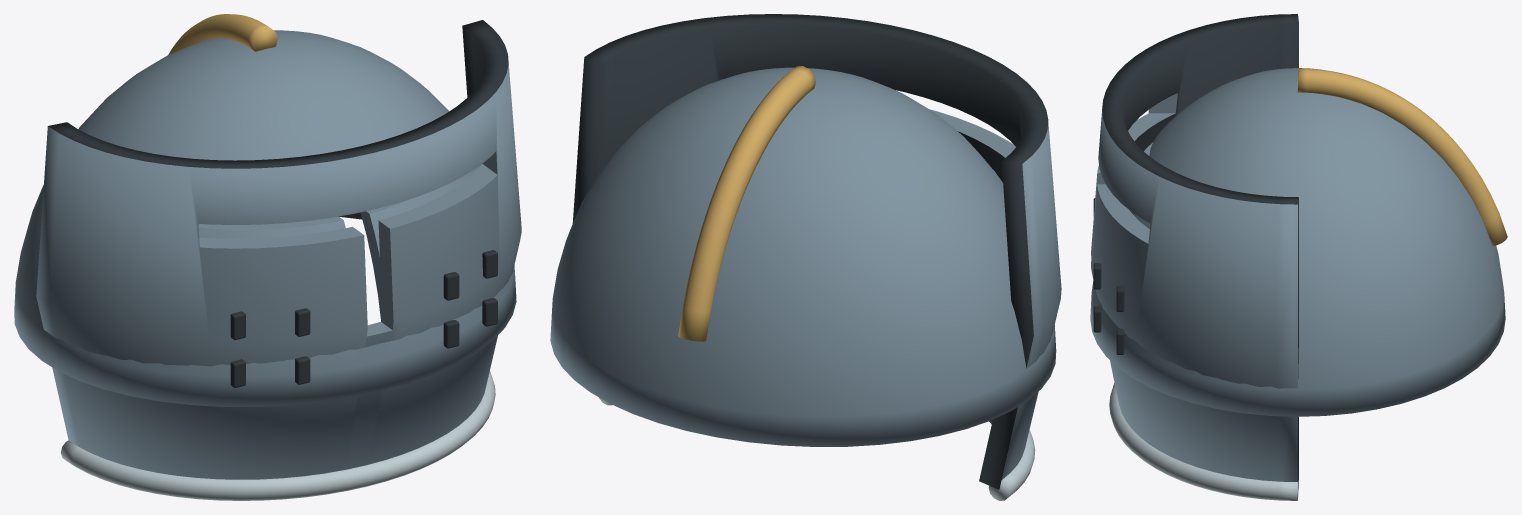
File: great-helm.glb
3 renders of one model, left to right at view 1: azimuth 30°, elevation 25°; view 2: azimuth 150°, elevation 25°; view 3: azimuth 270°, elevation 25°, orthographic. The views are drawn at different scales.
Parts seen in each view (by area): view 1: Curved full face plate, Closed great helm, Curved lower face rim, Flush crown reinforcement; view 2: Closed great helm, Curved full face plate, Flush crown reinforcement, Curved lower face rim; view 3: Closed great helm, Curved full face plate, Flush crown reinforcement, Curved lower face rim.
Boxes of the visible parts, <box> form: Curved full face plate: <box>36,20,521,479</box>; Closed great helm: <box>14,30,516,406</box>; Curved lower face rim: <box>60,371,495,500</box>; Flush crown reinforcement: <box>168,14,277,55</box>; Closed great helm: <box>550,67,1056,446</box>; Curved full face plate: <box>572,14,1061,489</box>; Flush crown reinforcement: <box>678,66,815,341</box>; Curved lower face rim: <box>599,397,1035,500</box>; Closed great helm: <box>1090,68,1505,416</box>; Curved full face plate: <box>1091,14,1298,487</box>; Flush crown reinforcement: <box>1297,68,1507,246</box>; Curved lower face rim: <box>1109,383,1298,500</box>.
Bounding box in the file's own units: 0.8 × 0.642 × 0.7035.
